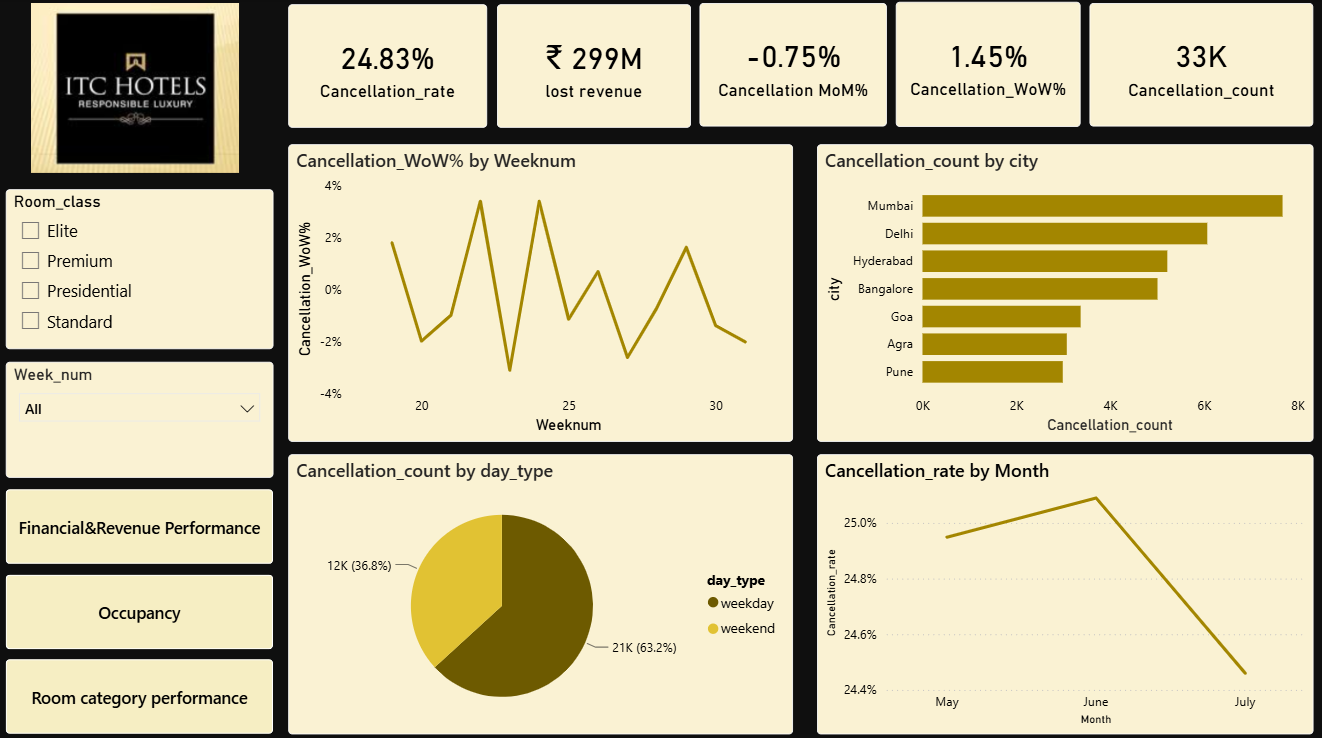

Layout of this report page (visuals, bound fields, positions):
{"tool":"powerbi","page":{"name":"Cancellation& lost revenue","canvas":[1280,720],"ordinal":3},"visuals":[{"type":"card","fields":{"Values":["z.lost revenue"]},"box":[482.6,6,187,119.4],"z":0},{"type":"card","fields":{"Values":["z.Cancellation MoM%"]},"box":[678,4.8,181,119.4],"z":1000},{"type":"slicer","title":"Room_class","fields":{"Values":["rooms.room_class"]},"box":[8.4,184.6,258.2,154.4],"z":2000},{"type":"barChart","fields":{"Category":["hotels.city"],"Y":["z.Cancellation_count"]},"box":[791.4,141.2,479,287.1],"z":3000},{"type":"pageNavigator","box":[8.4,474.1,258.2,236.5],"z":4000},{"type":"image","box":[0,4.8,266.6,164.1],"z":5000},{"type":"lineChart","fields":{"Category":["Calendar.Date.Variation.Date Hierarchy.Month"],"Y":["z.Cancellation_rate"]},"box":[791.4,440.4,479,270.2],"z":6000},{"type":"card","fields":{"Values":["z.Cancellation_rate"]},"box":[281.1,6,191.8,119.4],"z":7000},{"type":"card","fields":{"Values":["z.1Cancellation_WoW%"]},"box":[867.4,3.6,178.6,120.6],"z":8000},{"type":"lineChart","fields":{"Y":["z.1Cancellation_WoW%"],"Category":["Calendar.Weeknum"]},"box":[281.1,141.2,487.4,287.1],"z":9000},{"type":"pieChart","fields":{"Category":["Calendar.day_type"],"Y":["z.Cancellation_count"]},"box":[281.1,440.4,487.4,270.2],"z":10000},{"type":"card","fields":{"Values":["z.Cancellation_count"]},"box":[1054.4,4.8,216,119.4],"z":11000},{"type":"slicer","title":"Week_num","fields":{"Values":["Calendar.Weeknum"]},"box":[8.4,351.1,258.2,112.2],"z":12000}]}

Visuals, with their boxes in screenshot pixels (x1, y1, x2, y2), scaled from the page's 1280x720 canvas onto the 1322x738 screenshot:
card - z.lost revenue: (498,6,692,129)
card - z.Cancellation MoM%: (700,5,887,127)
"Room_class" slicer: (9,189,275,347)
barChart - hotels.city x z.Cancellation_count: (817,145,1312,439)
pageNavigator: (9,486,275,728)
image: (0,5,275,173)
lineChart - Calendar.Date.Variation.Date Hierarchy.Month x z.Cancellation_rate: (817,451,1312,728)
card - z.Cancellation_rate: (290,6,488,129)
card - z.1Cancellation_WoW%: (896,4,1080,127)
lineChart - z.1Cancellation_WoW% x Calendar.Weeknum: (290,145,794,439)
pieChart - Calendar.day_type x z.Cancellation_count: (290,451,794,728)
card - z.Cancellation_count: (1089,5,1312,127)
"Week_num" slicer: (9,360,275,475)
